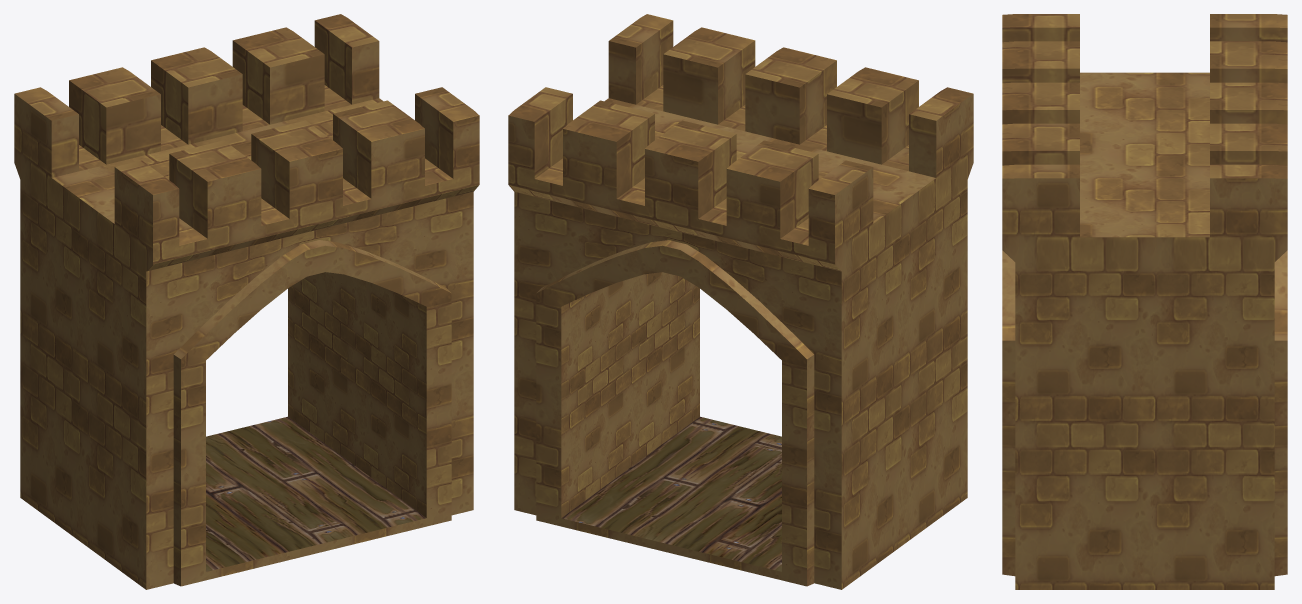
File: castle_door_wall.fbx
3 views of the same model, side by side, from view 1: azimuth 30°, elevation 25°; view 2: azimuth 150°, elevation 25°; view 3: azimuth 270°, elevation 25° (orthographic). The views are drawn at different scales.
Parts seen in each view (by area): view 1: castle_door_wall; view 2: castle_door_wall; view 3: castle_door_wall.
Boxes of the visible parts, x1,y1,x2,y2 form: castle_door_wall: (14, 14, 479, 589); castle_door_wall: (508, 14, 973, 589); castle_door_wall: (1002, 14, 1287, 589).
Size of the model in its own units: 600 by 700 by 440.
